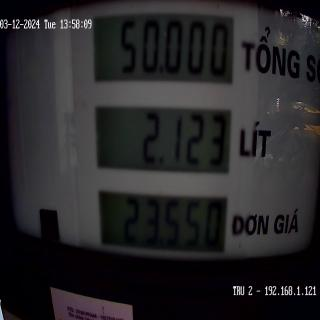screen: (92, 2, 239, 275)
